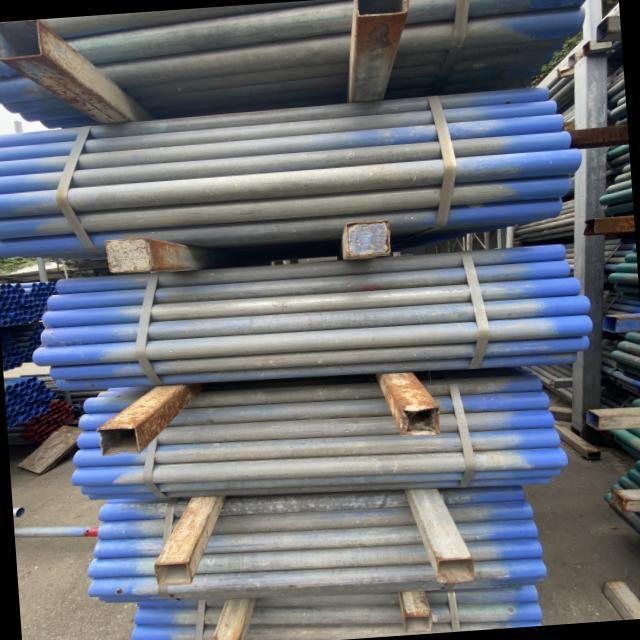pipe: (0, 148, 582, 218), (0, 177, 570, 241), (0, 130, 570, 192), (0, 114, 562, 175), (0, 100, 556, 161), (0, 86, 548, 147), (0, 200, 563, 259), (42, 274, 582, 332), (46, 257, 572, 313), (30, 314, 592, 366), (40, 294, 592, 346), (55, 243, 567, 293), (50, 336, 587, 380), (55, 352, 578, 391), (74, 425, 560, 465), (87, 536, 545, 577), (77, 410, 554, 449), (78, 391, 550, 430), (92, 517, 539, 557), (86, 558, 551, 595), (68, 448, 569, 482), (81, 377, 540, 413), (98, 502, 534, 539), (98, 486, 529, 521), (79, 468, 565, 494), (90, 477, 555, 501), (132, 602, 544, 626)
